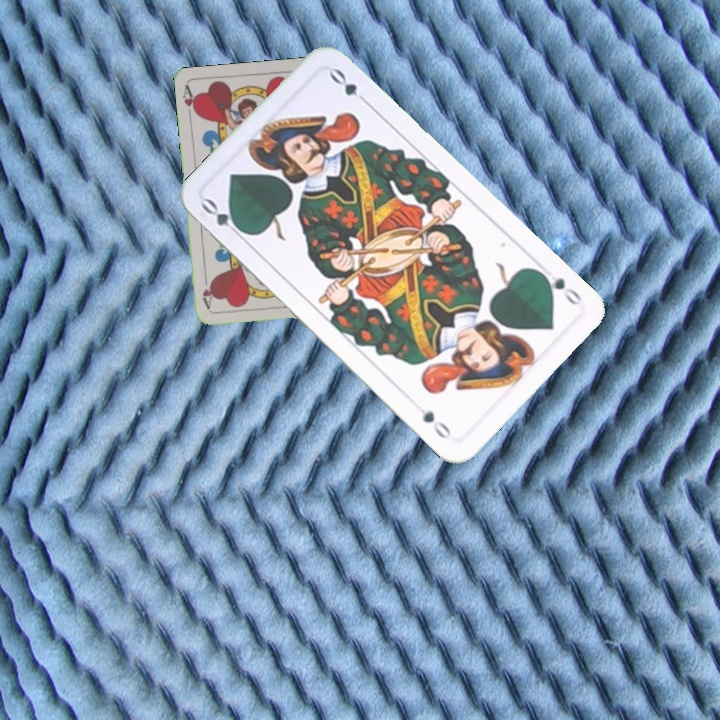GO: (197, 194, 250, 242), (534, 266, 585, 308)
HA: (179, 82, 200, 123)
